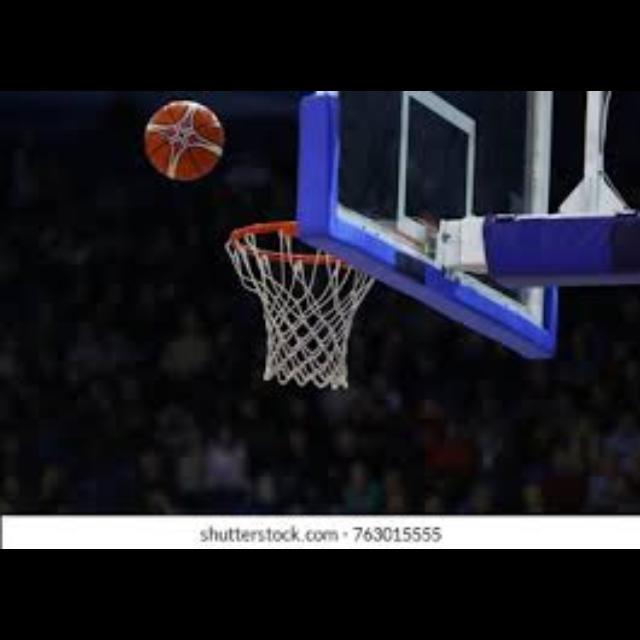basketball: (146, 102, 222, 180)
rim: (228, 222, 368, 390)
